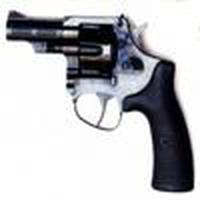gun: (6, 8, 199, 191)
